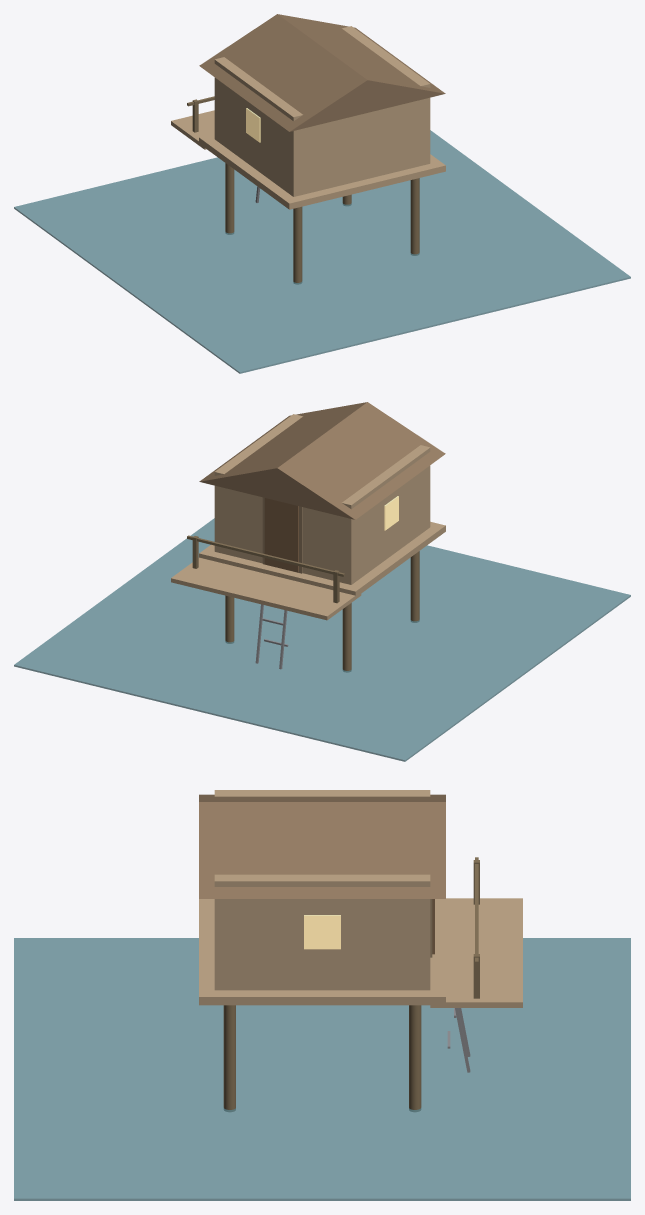
Rendered from fishing_hut.glb.
The picture shows the model from 3 angles, top to bottom: view 1: azimuth 30°, elevation 25°; view 2: azimuth 150°, elevation 25°; view 3: azimuth 270°, elevation 25°; orthographic projection. The views are drawn at different scales.
Parts seen in each view (by area): view 1: water, body, roof, floor, deck, stilt_bl, stilt_br, stilt_fl; view 2: water, roof, body, deck, floor, door, stilt_bl, rail_top, stilt_fl; view 3: water, body, roof, deck, floor, stilt_fr, stilt_br, win_r.
Boxes of the visible parts, x1=… form: water: x1=14, y1=130, x2=630, y2=373; body: x1=214, y1=26, x2=430, y2=196; roof: x1=199, y1=14, x2=445, y2=131; floor: x1=199, y1=133, x2=445, y2=209; deck: x1=171, y1=110, x2=214, y2=149; stilt_bl: x1=293, y1=206, x2=302, y2=284; stilt_br: x1=410, y1=178, x2=419, y2=255; stilt_fl: x1=225, y1=163, x2=234, y2=234; water: x1=14, y1=518, x2=630, y2=761; roof: x1=199, y1=402, x2=445, y2=519; body: x1=214, y1=414, x2=430, y2=584; deck: x1=171, y1=557, x2=361, y2=620; floor: x1=199, y1=521, x2=445, y2=597; door: x1=264, y1=498, x2=298, y2=572; stilt_bl: x1=410, y1=551, x2=419, y2=622; rail_top: x1=187, y1=535, x2=344, y2=576; stilt_fl: x1=342, y1=603, x2=351, y2=672; water: x1=14, y1=938, x2=630, y2=1200; body: x1=214, y1=790, x2=430, y2=990; roof: x1=199, y1=794, x2=445, y2=898; deck: x1=430, y1=898, x2=522, y2=1007; floor: x1=199, y1=899, x2=445, y2=1005; stilt_fr: x1=409, y1=1005, x2=421, y2=1111; stilt_br: x1=223, y1=1005, x2=235, y2=1111; win_r: x1=304, y1=915, x2=340, y2=949.
Size of the model in its own units: 10 by 4.8 by 10.
